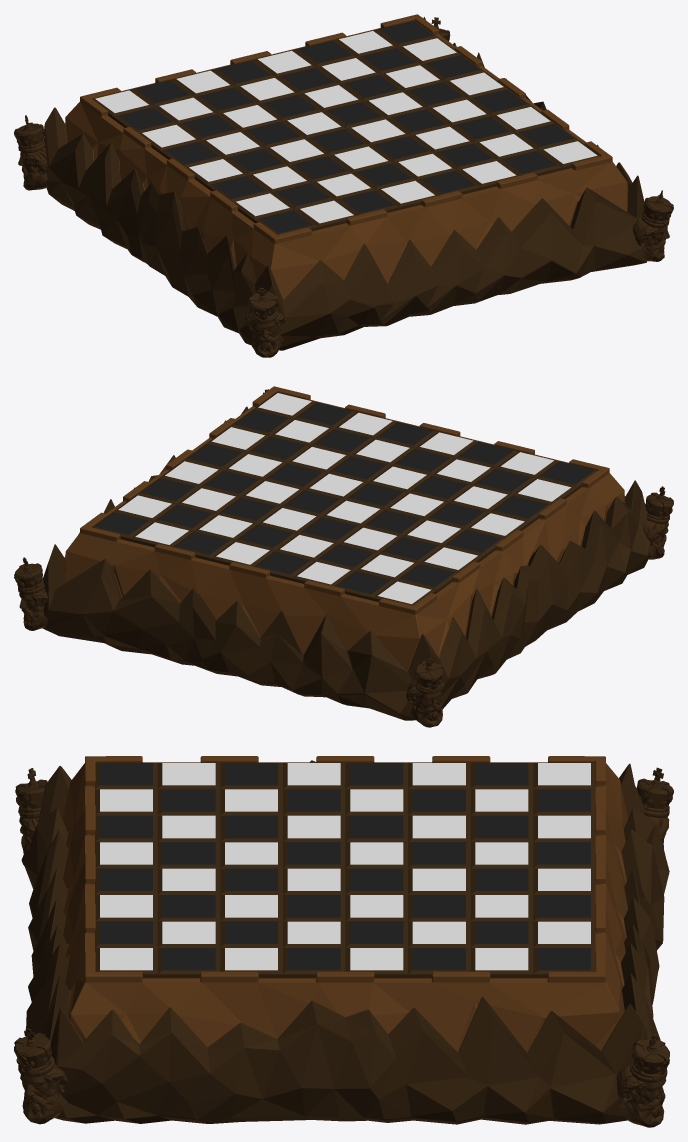
The model's file is Chessboard.fbx.
3 views of the same model, one above another, from view 1: azimuth 30°, elevation 25°; view 2: azimuth 150°, elevation 25°; view 3: azimuth 270°, elevation 25° (orthographic). The views are drawn at different scales.
Parts seen in each view (by area): view 1: Board_TilesWhite; view 2: Board_TilesWhite; view 3: Board_TilesWhite.
Part boxes in pixels (left/top/right/bottom): Board_TilesWhite: left=14, top=14, right=673, bottom=357; Board_TilesWhite: left=14, top=386, right=673, bottom=727; Board_TilesWhite: left=14, top=756, right=673, bottom=1127.
Size of the model in its own units: 21.5 by 21.49 by 4.86.
